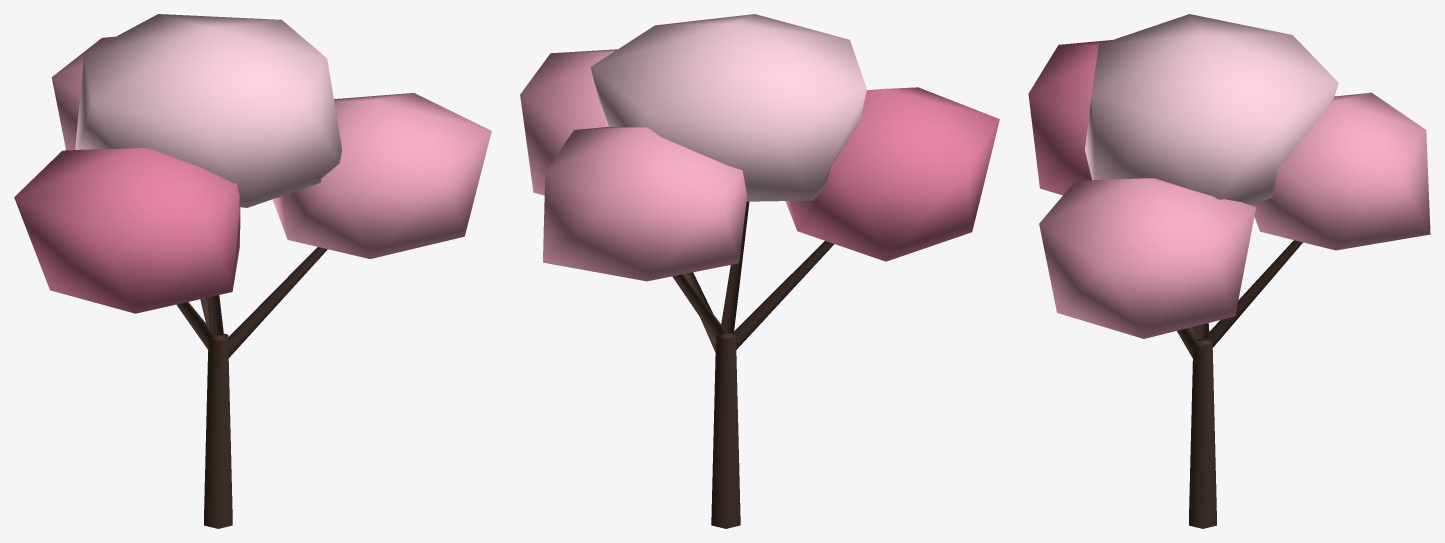
Rendered from mai_anh_dao_blossom_lod0.glb.
3 views of the same model, side by side, from view 1: azimuth 30°, elevation 25°; view 2: azimuth 150°, elevation 25°; view 3: azimuth 270°, elevation 25° (orthographic). The views are drawn at different scales.
Parts seen in each view (by area): view 1: blossom_top, blossom_w, blossom_e, trunk_main, blossom_n, cherry_branch_0, cherry_branch_1; view 2: blossom_top, blossom_n, blossom_w, blossom_e, trunk_main, cherry_branch_1, cherry_branch_3, cherry_branch_2; view 3: blossom_top, blossom_e, blossom_n, blossom_w, trunk_main, cherry_branch_2.
Boxes of the visible parts, <box> form: blossom_top: <box>75,14,341,207</box>; blossom_w: <box>14,147,240,313</box>; blossom_e: <box>272,93,491,258</box>; trunk_main: <box>204,333,232,528</box>; blossom_n: <box>51,36,115,150</box>; cherry_branch_0: <box>228,247,327,357</box>; cherry_branch_1: <box>176,302,219,352</box>; blossom_top: <box>590,14,866,201</box>; blossom_n: <box>543,127,747,281</box>; blossom_w: <box>785,87,999,261</box>; blossom_e: <box>520,49,617,195</box>; trunk_main: <box>711,332,740,528</box>; cherry_branch_1: <box>730,241,834,349</box>; cherry_branch_3: <box>721,201,749,333</box>; cherry_branch_2: <box>672,274,729,342</box>; blossom_top: <box>1085,14,1338,205</box>; blossom_e: <box>1039,178,1255,338</box>; blossom_n: <box>1251,92,1430,250</box>; blossom_w: <box>1028,40,1111,195</box>; trunk_main: <box>1189,338,1216,528</box>; cherry_branch_2: <box>1200,240,1302,347</box>.
Size of the model in its own units: 6.83 by 7.22 by 5.45.
